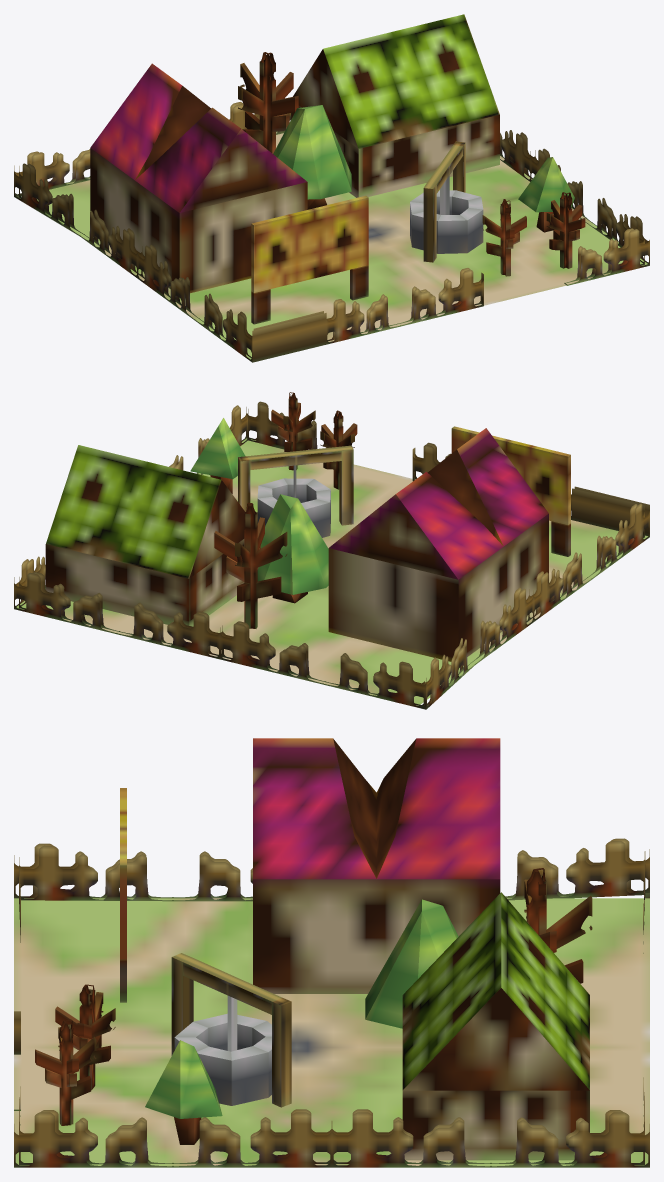
File: Poly_World_Map_Town_House_04_Damaged.obj
3 renders of one model, top to bottom at view 1: azimuth 30°, elevation 25°; view 2: azimuth 150°, elevation 25°; view 3: azimuth 270°, elevation 25°, orthographic. The views are drawn at different scales.
Parts seen in each view (by area): view 1: Cube.002_Cube.003, Cube_Cube.001, Plane.001, Grid.001, Cube_Cube.003, Cube.001_Cube.001, Cube.001_Cube.002, Cube.003_Cube.001, Cube.004_Cube.001; view 2: Cube.002_Cube.003, Cube_Cube.001, Grid.001, Plane.001, Cube.001_Cube.002, Cube.001_Cube.001, Cube_Cube.003, Cube.004_Cube.001, Cube.003_Cube.001; view 3: Plane.001, Cube.002_Cube.003, Cube_Cube.001, Grid.001, Cube.001_Cube.002, Cube.001_Cube.001, Cube.004_Cube.001, Cube.003_Cube.001, Cube_Cube.003.
Part boxes in pixels (x1=…): Cube.002_Cube.003: x1=90, y1=63, x2=307, y2=293; Cube_Cube.001: x1=291, y1=14, x2=499, y2=197; Plane.001: x1=37, y1=132, x2=647, y2=359; Grid.001: x1=14, y1=102, x2=649, y2=362; Cube_Cube.003: x1=251, y1=195, x2=368, y2=324; Cube.001_Cube.001: x1=238, y1=52, x2=585, y2=276; Cube.001_Cube.002: x1=273, y1=105, x2=574, y2=232; Cube.003_Cube.001: x1=410, y1=190, x2=483, y2=253; Cube.004_Cube.001: x1=423, y1=141, x2=465, y2=262; Cube.002_Cube.003: x1=328, y1=428, x2=548, y2=661; Cube_Cube.001: x1=45, y1=445, x2=245, y2=626; Grid.001: x1=14, y1=401, x2=649, y2=709; Plane.001: x1=16, y1=438, x2=647, y2=705; Cube.001_Cube.002: x1=190, y1=418, x2=328, y2=603; Cube.001_Cube.001: x1=214, y1=392, x2=357, y2=628; Cube_Cube.003: x1=451, y1=426, x2=570, y2=556; Cube.004_Cube.001: x1=238, y1=445, x2=353, y2=525; Cube.003_Cube.001: x1=257, y1=478, x2=330, y2=537; Plane.001: x1=14, y1=898, x2=649, y2=1166; Cube.002_Cube.003: x1=253, y1=738, x2=500, y2=993; Cube_Cube.001: x1=402, y1=892, x2=589, y2=1160; Grid.001: x1=14, y1=838, x2=649, y2=1167; Cube.001_Cube.002: x1=145, y1=899, x2=458, y2=1144; Cube.001_Cube.001: x1=35, y1=868, x2=592, y2=1125; Cube.004_Cube.001: x1=171, y1=953, x2=291, y2=1107; Cube.003_Cube.001: x1=174, y1=1013, x2=271, y2=1105; Cube_Cube.003: x1=120, y1=788, x2=126, y2=1002.
Size of the model in its own units: 0.9203 by 0.331 by 0.9.
Materials: 1 (1 with a texture image).
